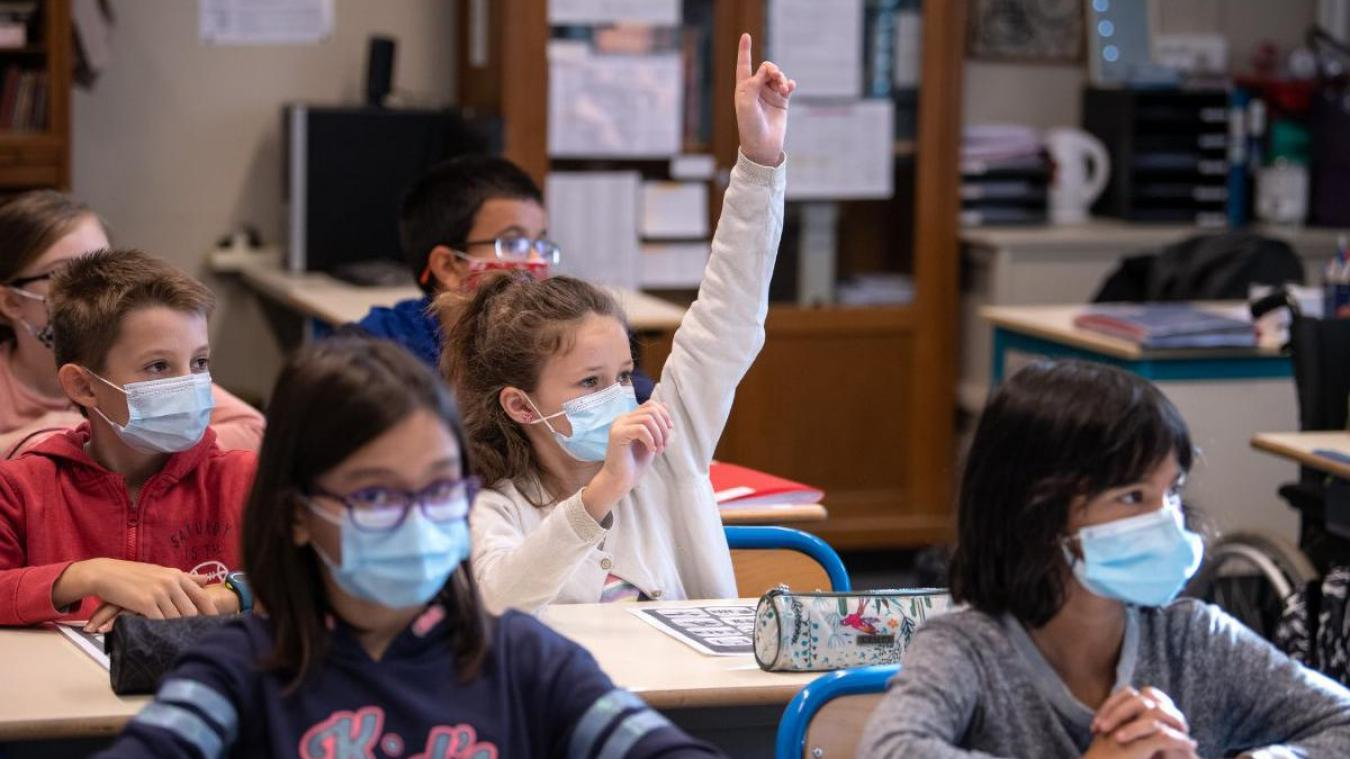with_mask: (319, 424, 489, 628), (1069, 461, 1215, 618), (538, 330, 660, 486), (105, 313, 224, 456)
